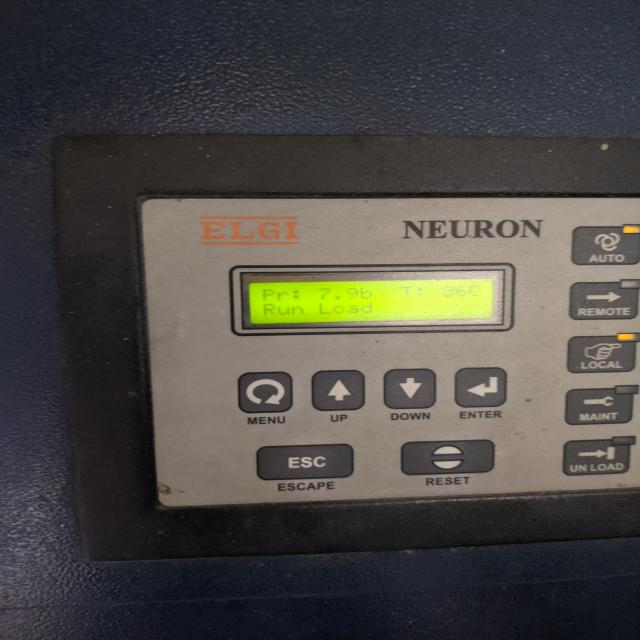display: (248, 277, 496, 326)
frame: (318, 287, 359, 301), (441, 283, 468, 299)
gauge: (133, 190, 640, 511)
